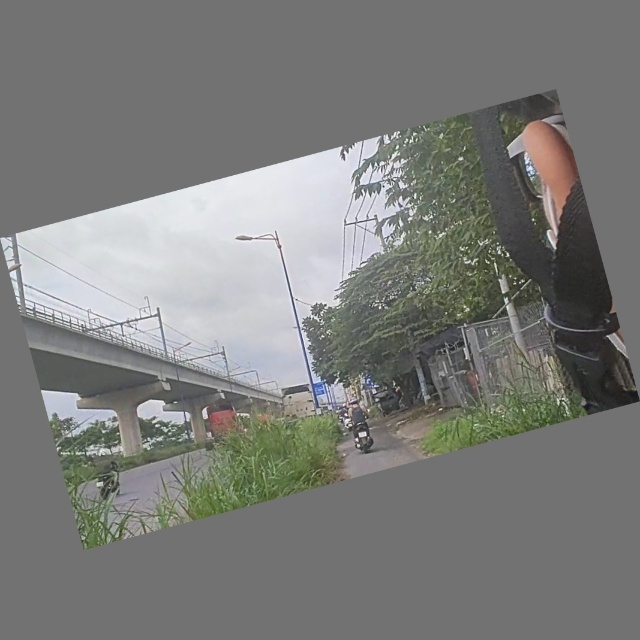I.409: (363, 375, 379, 389)
